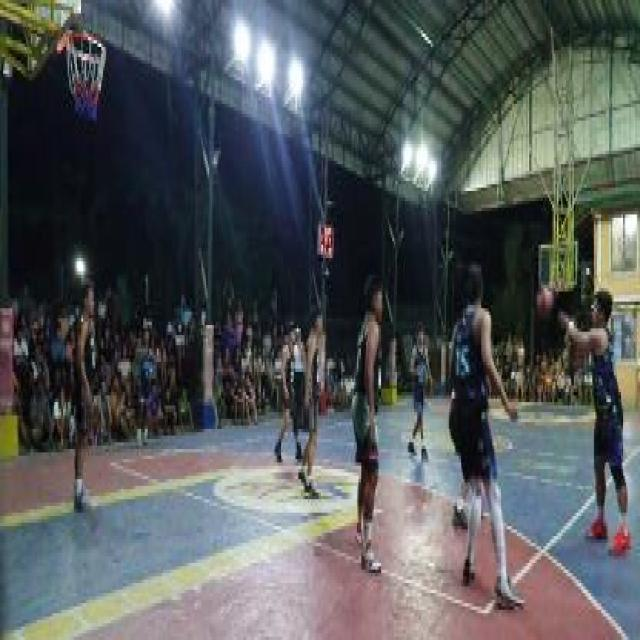Ball: (535, 288, 558, 332)
